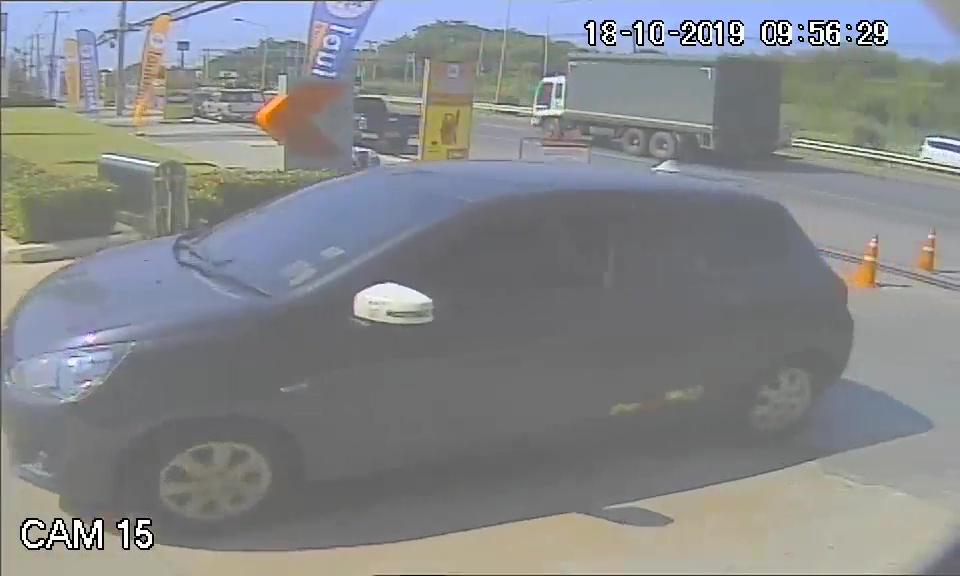sedan: (8, 158, 856, 515)
